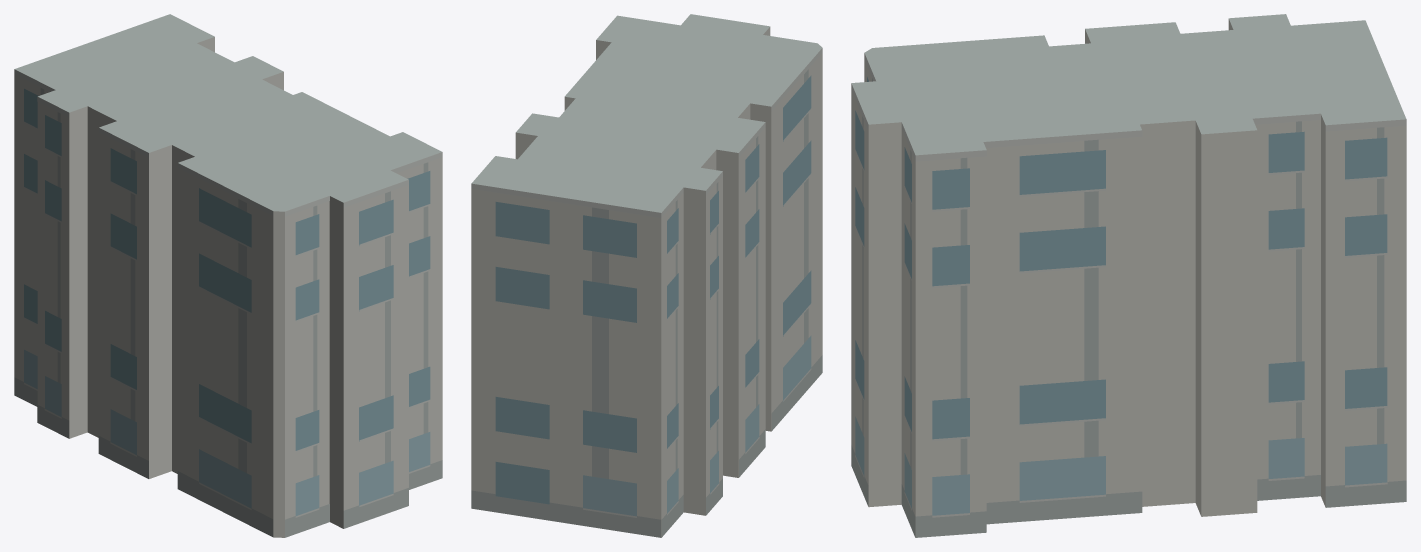
The model's file is survey-upis-32792648.glb.
3 views of the same model, side by side, from view 1: azimuth 30°, elevation 25°; view 2: azimuth 150°, elevation 25°; view 3: azimuth 270°, elevation 25° (orthographic). The views are drawn at different scales.
Parts seen in each view (by area): view 1: survey-upis-32792648.tmp; view 2: survey-upis-32792648.tmp; view 3: survey-upis-32792648.tmp.
Part boxes in pixels (x1,y1,x2,y2): survey-upis-32792648.tmp: (14, 14, 442, 537); survey-upis-32792648.tmp: (471, 14, 822, 537); survey-upis-32792648.tmp: (851, 14, 1406, 537).
Size of the model in its own units: 11.98 by 15.1 by 19.87.
